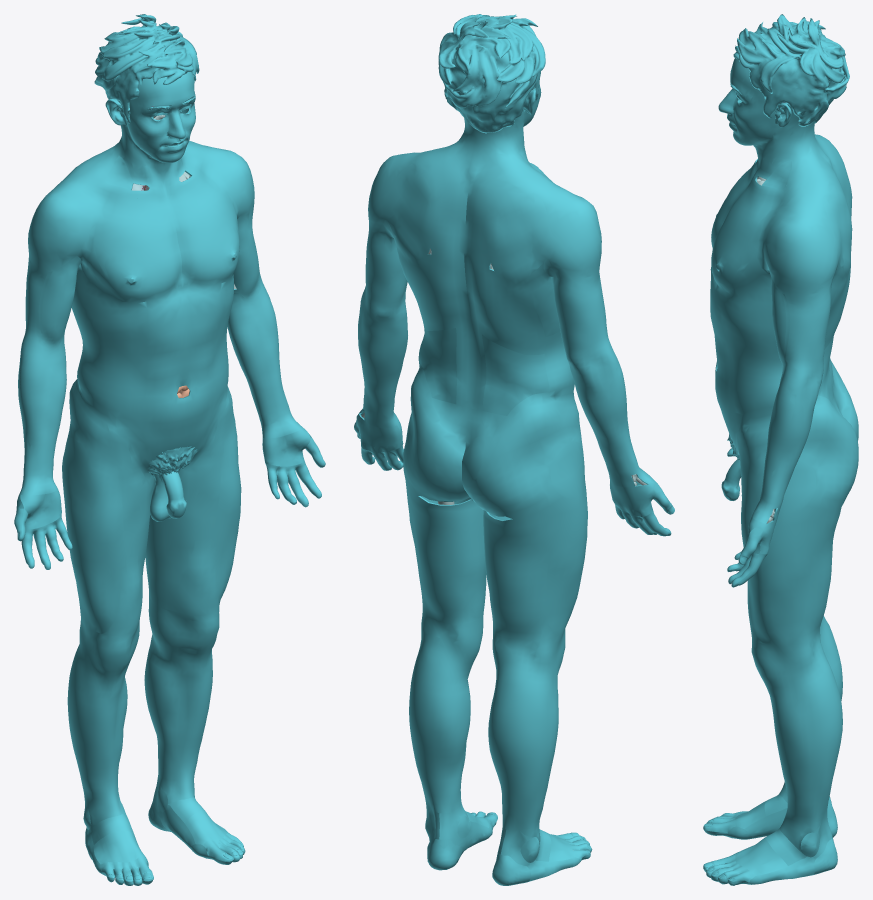
File: z-anatomy-1.2.0-full-body.glb
3 views of the same model, side by side, from view 1: azimuth 30°, elevation 25°; view 2: azimuth 150°, elevation 25°; view 3: azimuth 270°, elevation 25° (orthographic). The views are drawn at different scales.
Parts seen in each view (by area): view 1: body-shell__Anterior region of thigh.r, body-shell__Anterior region of thigh.l, body-shell__Hairs of head, body-shell__Anterior region of leg.l, body-shell__Anterior region of leg.r, body-shell__Pectoral region.r, body-shell__Deltoid region.r, body-shell__Anterior region of forearm.l, body-shell__Anterior region of forearm.r, body-shell__Lateral region of thorax.r, body-shell__Lateral region of abdomen.r, body-shell__Pectoral region.l (+46 smaller); view 2: body-shell__Posterior region of thigh.r, body-shell__Hairs of head, body-shell__Gluteal region.r, body-shell__Posterior region of thigh.l, body-shell__Posterior region of leg.r, body-shell__Posterior region of leg.l, body-shell__Gluteal region.l, body-shell__Scapular region.r, body-shell__Posterior region of arm.r, body-shell__Infrascapular region.r, body-shell__Scapular region.l, body-shell__Posterior region of forearm.r (+32 smaller); view 3: body-shell__Hairs of head, body-shell__Anterior region of thigh.l, body-shell__Posterior region of thigh.l, body-shell__Deltoid region.l, body-shell__Gluteal region.l, body-shell__Posterior region of leg.l, body-shell__Lateral region of thorax.l, body-shell__Anterior region of leg.l, body-shell__Lateral region of abdomen.l, body-shell__Pectoral region.l, body-shell__Posterior region of arm.l, body-shell__Posterior region of neck.l (+45 smaller).
Boxes of the visible parts, bbox=[...] form: body-shell__Anterior region of thigh.r: bbox=[69, 382, 154, 636]; body-shell__Anterior region of thigh.l: bbox=[150, 383, 241, 615]; body-shell__Hairs of head: bbox=[94, 14, 199, 123]; body-shell__Anterior region of leg.l: bbox=[153, 654, 212, 780]; body-shell__Anterior region of leg.r: bbox=[74, 674, 127, 799]; body-shell__Pectoral region.r: bbox=[94, 205, 174, 302]; body-shell__Deltoid region.r: bbox=[28, 174, 90, 271]; body-shell__Anterior region of forearm.l: bbox=[228, 304, 292, 425]; body-shell__Anterior region of forearm.r: bbox=[22, 360, 66, 481]; body-shell__Lateral region of thorax.r: bbox=[71, 225, 147, 333]; body-shell__Lateral region of abdomen.r: bbox=[77, 342, 147, 422]; body-shell__Pectoral region.l: bbox=[183, 179, 238, 284]; body-shell__Posterior region of thigh.r: bbox=[483, 496, 579, 640]; body-shell__Hairs of head: bbox=[438, 14, 545, 133]; body-shell__Gluteal region.r: bbox=[462, 392, 567, 518]; body-shell__Posterior region of thigh.l: bbox=[404, 472, 485, 624]; body-shell__Posterior region of leg.r: bbox=[488, 688, 555, 830]; body-shell__Posterior region of leg.l: bbox=[409, 667, 468, 813]; body-shell__Gluteal region.l: bbox=[403, 360, 470, 501]; body-shell__Scapular region.r: bbox=[486, 191, 559, 287]; body-shell__Posterior region of arm.r: bbox=[543, 242, 606, 348]; body-shell__Infrascapular region.r: bbox=[475, 273, 545, 354]; body-shell__Scapular region.l: bbox=[379, 164, 436, 266]; body-shell__Posterior region of forearm.r: bbox=[570, 368, 640, 475]; body-shell__Hairs of head: bbox=[733, 14, 849, 126]; body-shell__Anterior region of thigh.l: bbox=[738, 407, 787, 646]; body-shell__Posterior region of thigh.l: bbox=[783, 506, 841, 645]; body-shell__Deltoid region.l: bbox=[763, 197, 834, 297]; body-shell__Gluteal region.l: bbox=[798, 395, 858, 509]; body-shell__Posterior region of leg.l: bbox=[798, 679, 842, 822]; body-shell__Lateral region of thorax.l: bbox=[715, 229, 846, 343]; body-shell__Anterior region of leg.l: bbox=[770, 696, 806, 822]; body-shell__Lateral region of abdomen.l: bbox=[723, 347, 782, 414]; body-shell__Pectoral region.l: bbox=[711, 197, 769, 291]; body-shell__Posterior region of arm.l: bbox=[799, 248, 839, 364]; body-shell__Posterior region of neck.l: bbox=[784, 120, 834, 199].
Bounding box in the file's own units: 0.6801 × 1.74 × 0.294.
